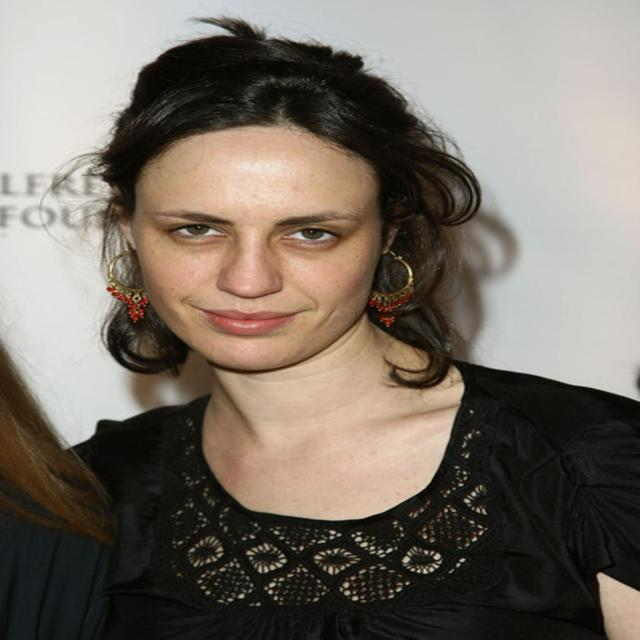Face: (122, 132, 397, 378)
